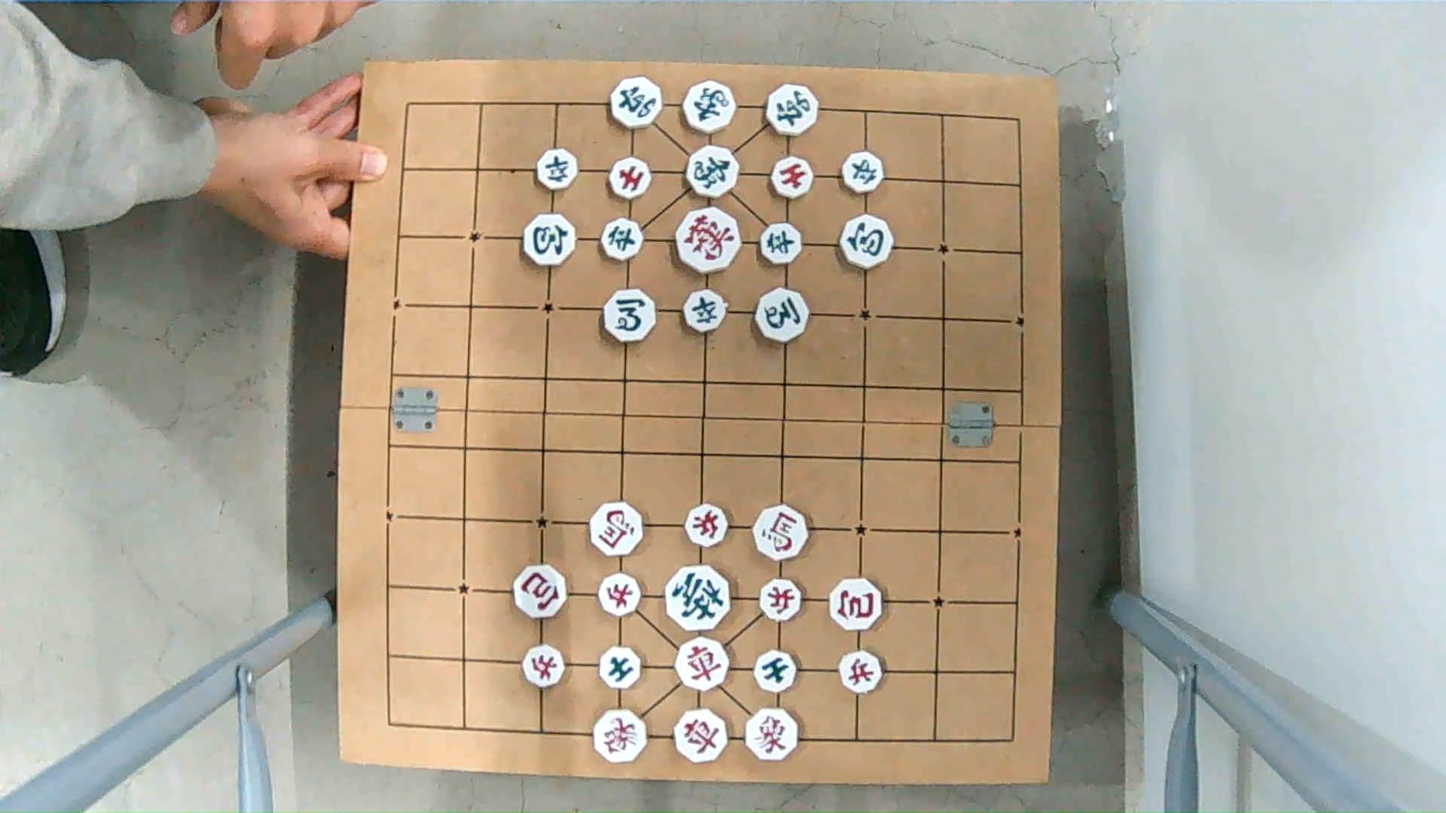cha_green: (608, 80, 666, 127), (763, 87, 822, 133)
cha_red: (674, 643, 734, 690), (676, 711, 727, 763)
jol_green: (596, 220, 645, 259), (843, 154, 889, 193), (757, 224, 803, 263), (536, 151, 581, 190), (683, 291, 726, 331)
jol_red: (835, 653, 884, 691), (518, 647, 566, 685), (760, 581, 804, 622), (684, 506, 728, 546), (599, 575, 643, 614)
ma_green: (752, 291, 812, 340), (602, 291, 661, 340)
ma_red: (754, 503, 809, 562), (586, 506, 646, 556)
po_green: (836, 217, 895, 266), (523, 216, 580, 264)
po_red: (514, 568, 572, 617), (827, 582, 883, 629)
sa_green: (596, 650, 645, 689), (750, 653, 798, 691)
sa_red: (770, 160, 817, 199), (609, 160, 655, 199)
sang_green: (679, 83, 737, 132), (683, 148, 741, 196)
sang_red: (590, 711, 649, 760), (744, 710, 801, 758)
wang_green: (664, 571, 736, 629)
wang_red: (670, 213, 740, 267)
